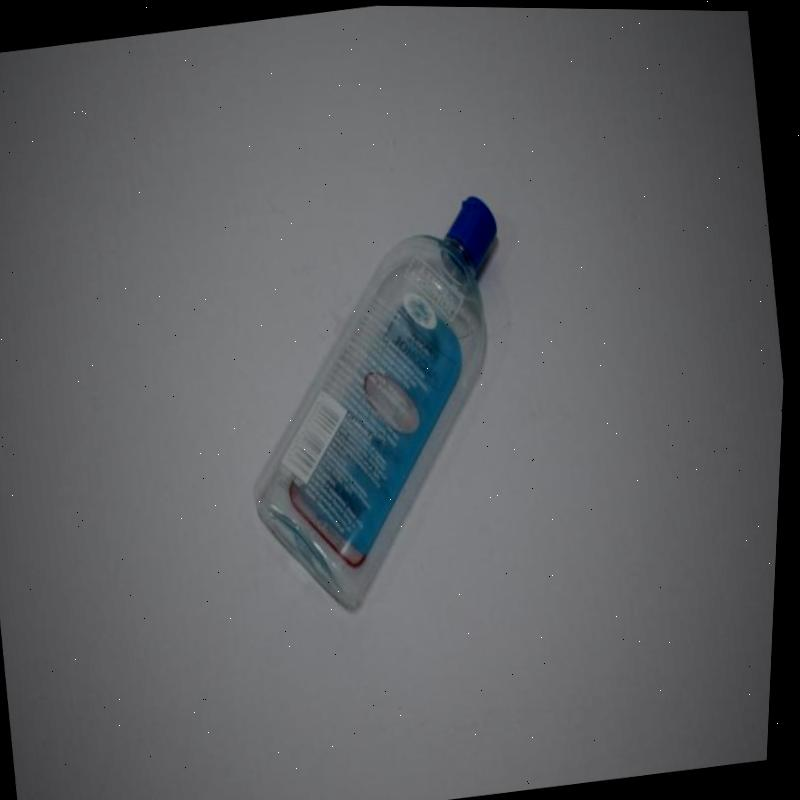botella: (209, 176, 555, 634)
